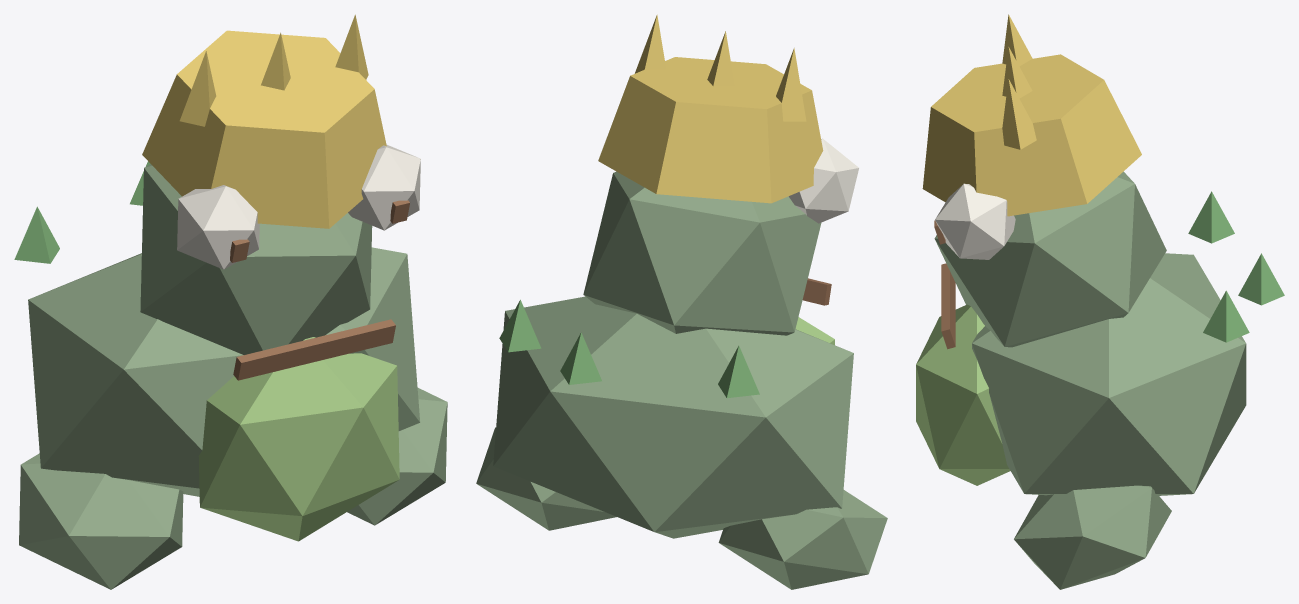
The model's file is npcpose_toad_king_walk_06.glb.
3 views of the same model, side by side, from view 1: azimuth 30°, elevation 25°; view 2: azimuth 150°, elevation 25°; view 3: azimuth 270°, elevation 25° (orthographic). The views are drawn at different scales.
Visible parts, largest first — view 1: npcpose; view 2: npcpose; view 3: npcpose.
Part boxes in pixels (x1,y1,x2,y2): npcpose: [14, 14, 447, 589]; npcpose: [476, 14, 887, 589]; npcpose: [916, 14, 1284, 589].
Bounding box in the file's own units: 1.75 × 2.13 × 1.51.
